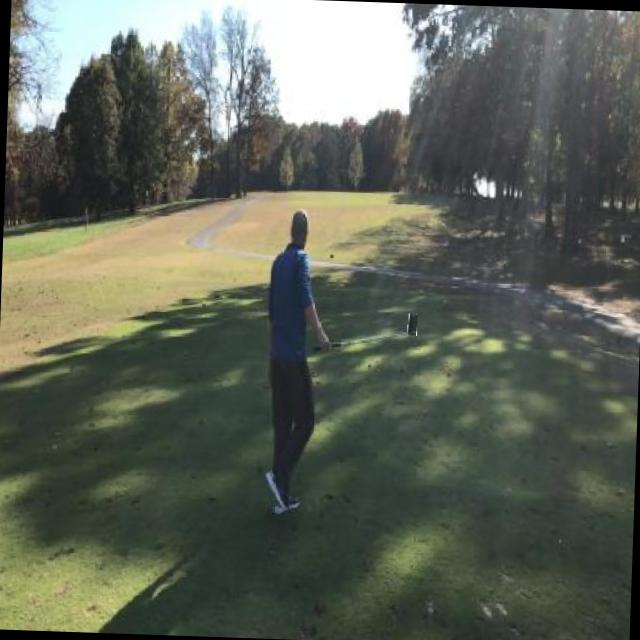club head: (408, 313, 418, 335)
